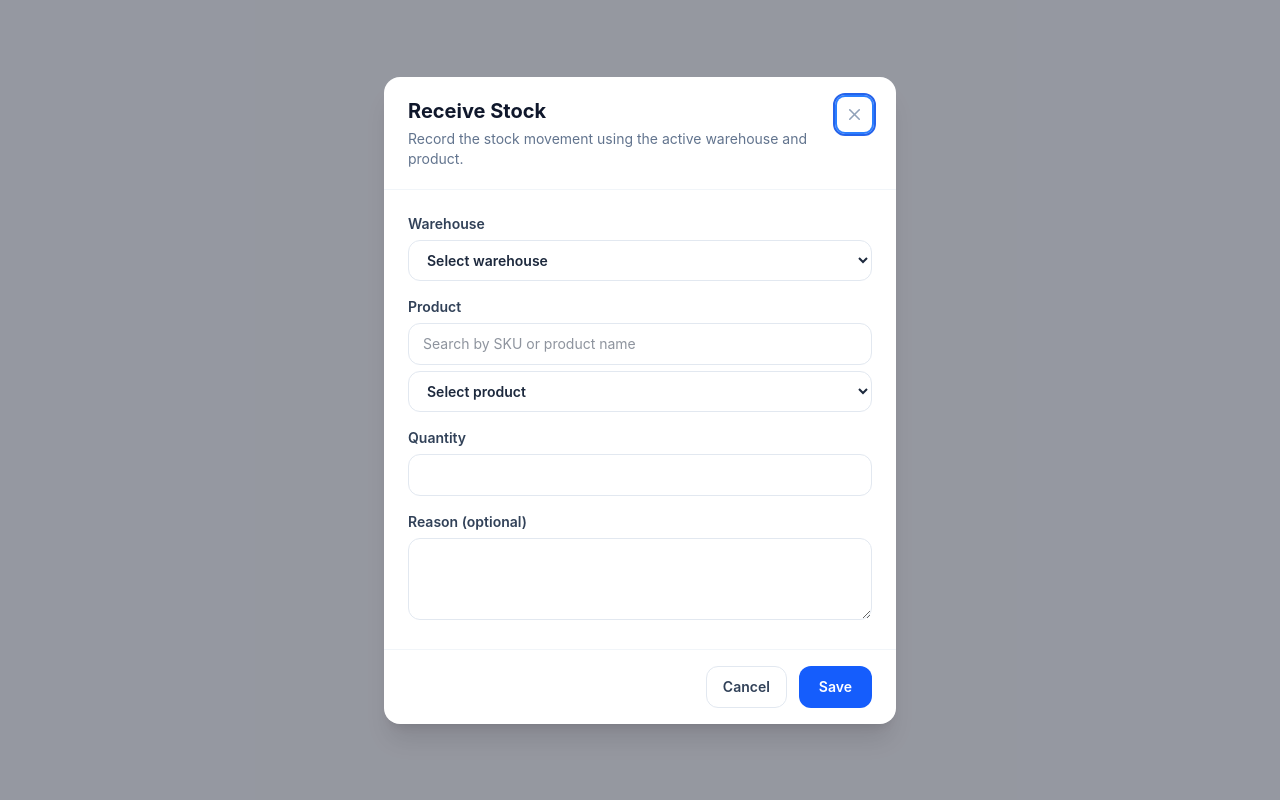
Test: InventoryOperationDialog › receipt requires warehouse, product, and a positive whole quantity
Submit the form, box [408,214,872,624]
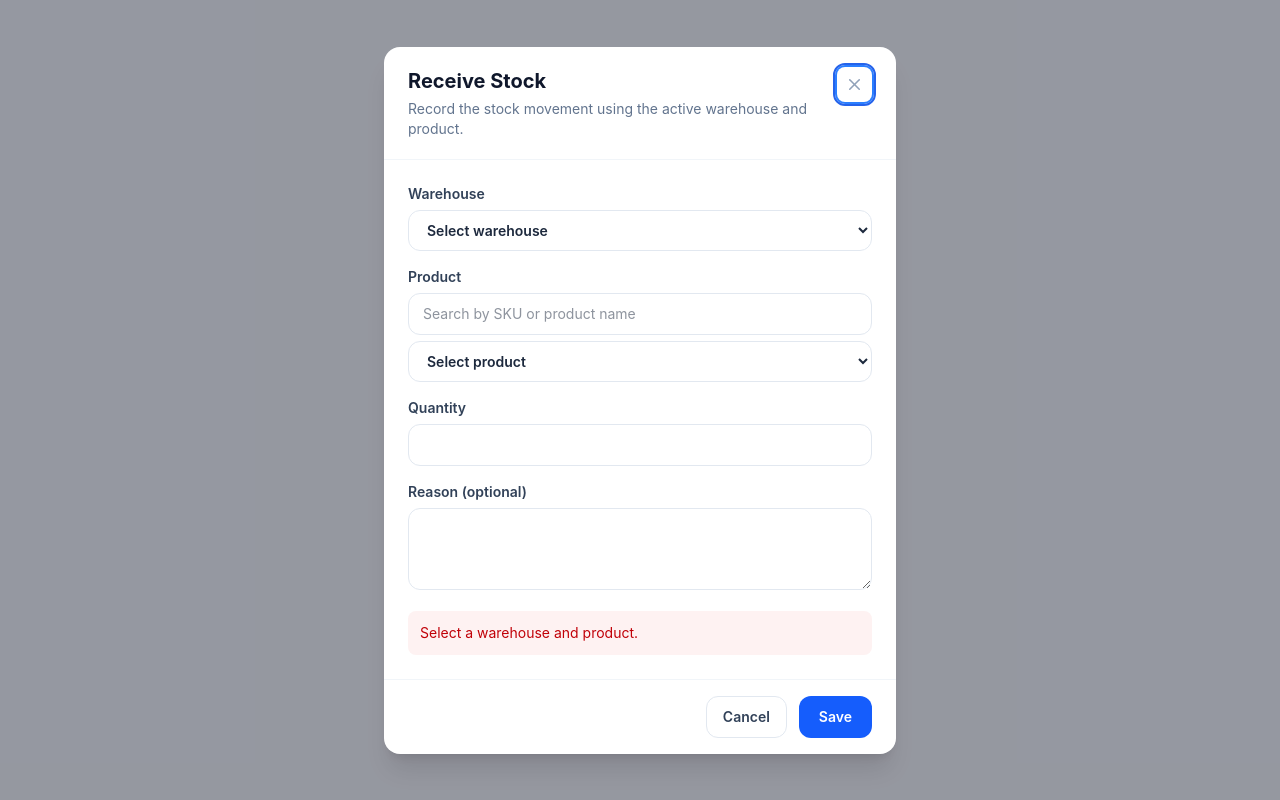
Check: the message reads "Select a warehouse and product.", box [420,624,638,640]
Select "WH-JKT — Jakarta Central Warehouse" in the dropdown labelled "Warehouse" at (640, 230), box [408,210,872,250]
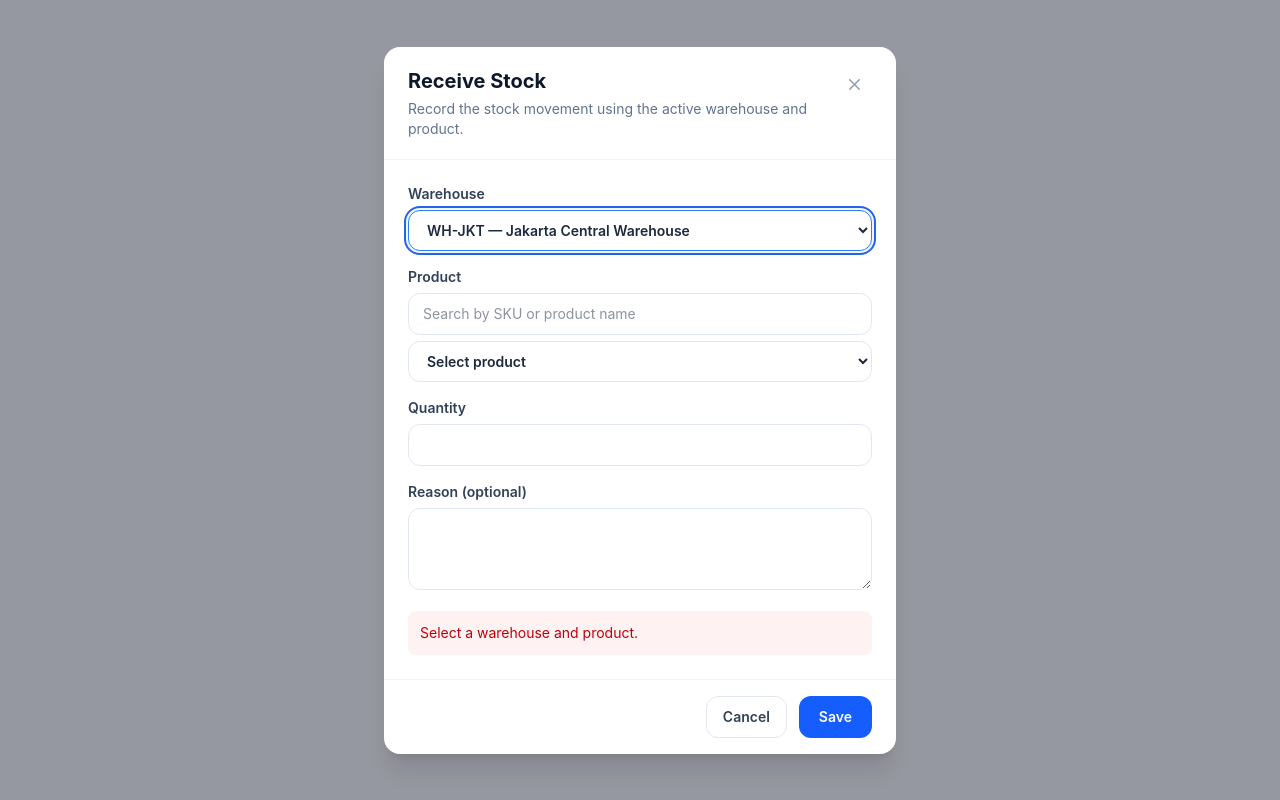
Select "LAP-001 — Business Laptop" in the 2nd dropdown at (640, 361), box [408,340,872,382]
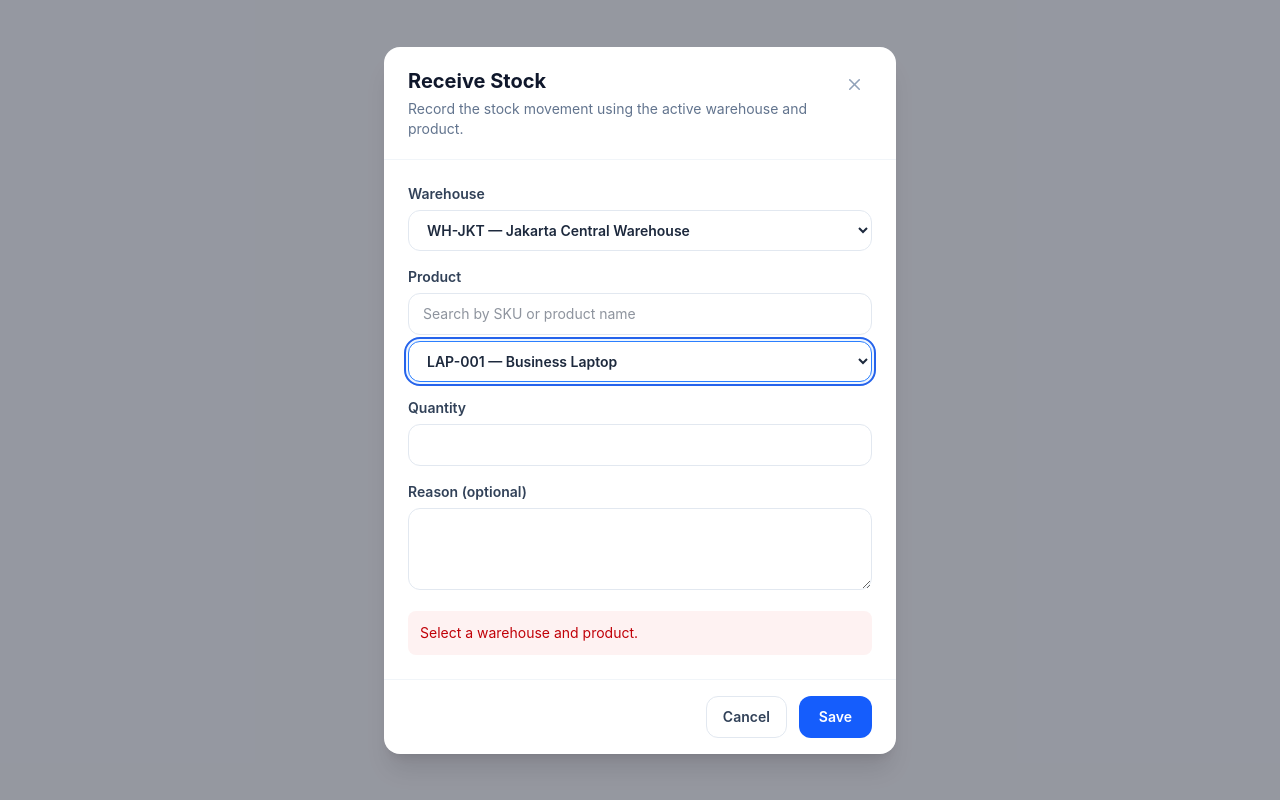
Type "0" into the number field labelled "Quantity".
click(640, 444); type("0")  # box [408,424,872,466]
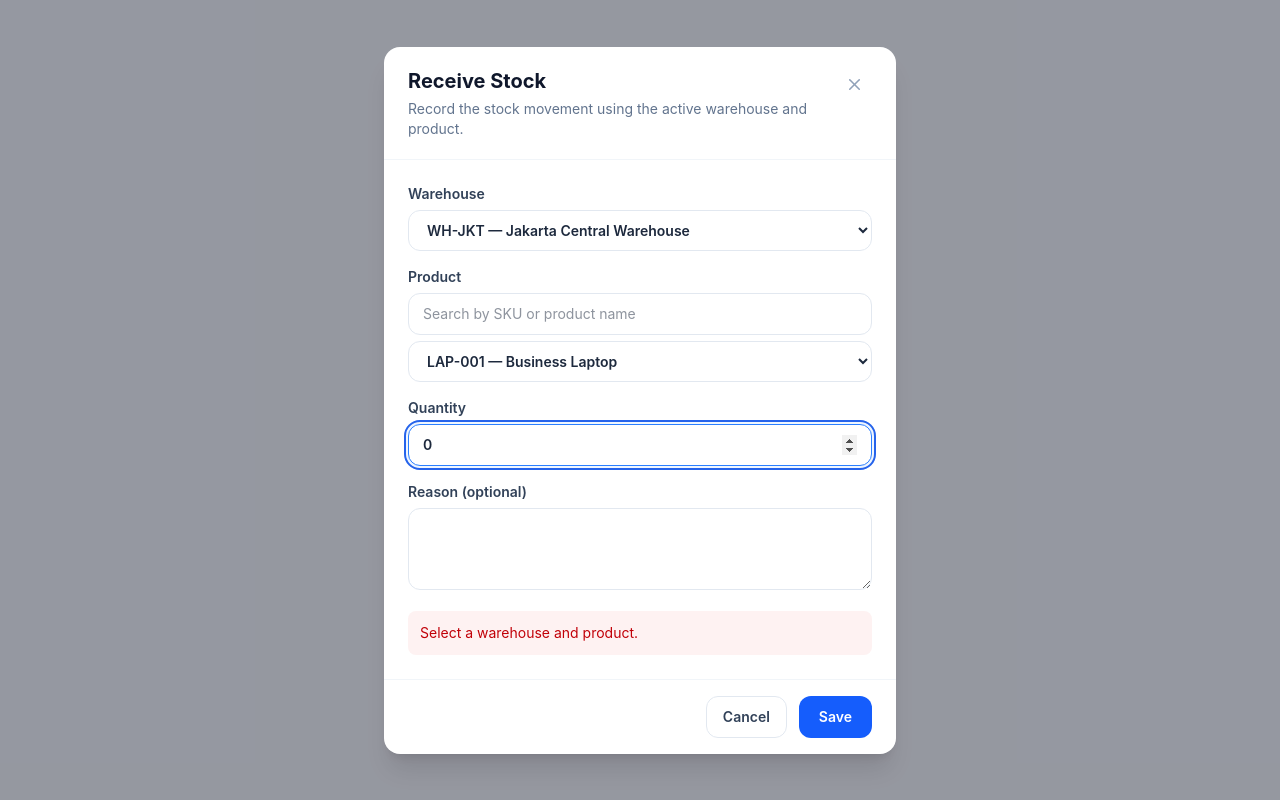
Submit the form, box [408,184,872,654]
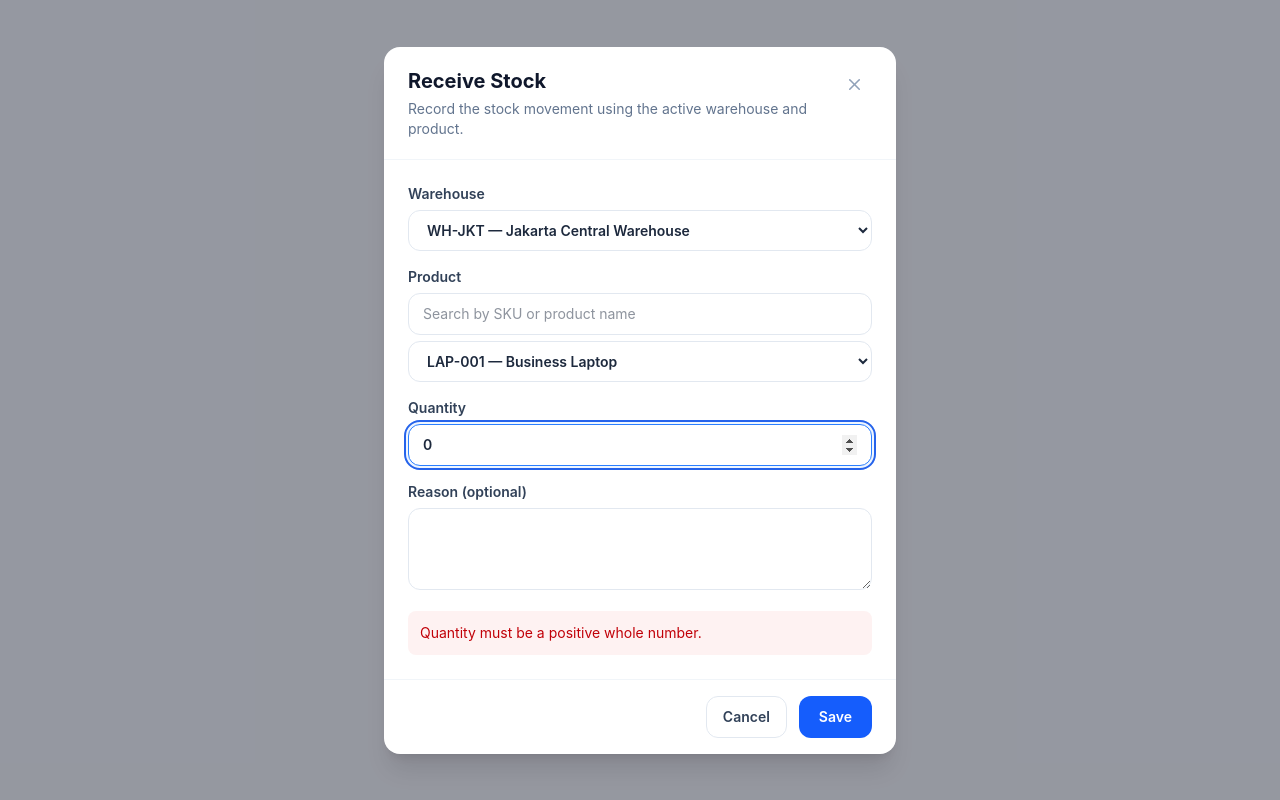
Check: the message reads "Quantity must be a positive whole number.", box [420,624,702,640]
